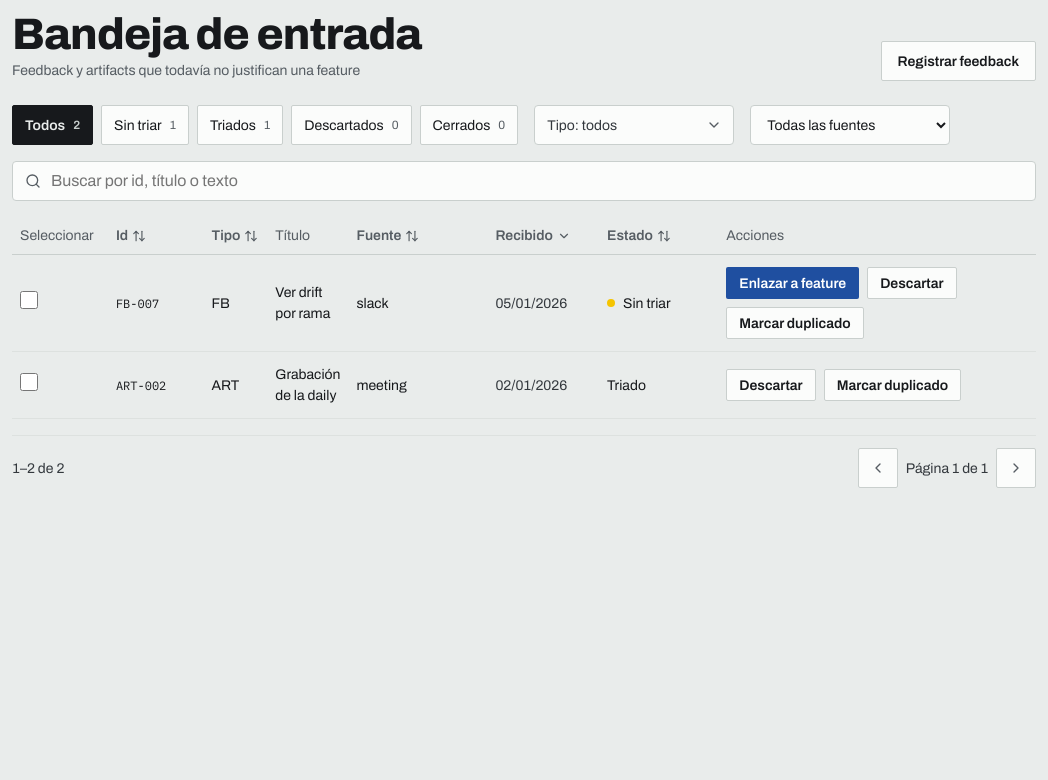
Test case: Entrada › triage › shows the batch bar with the selection count
Expected: the text "FB-007" is shown, [116,296,159,310]
Click the checkbox named "Seleccionar FB-007" at (29, 300), box [20,291,38,309]
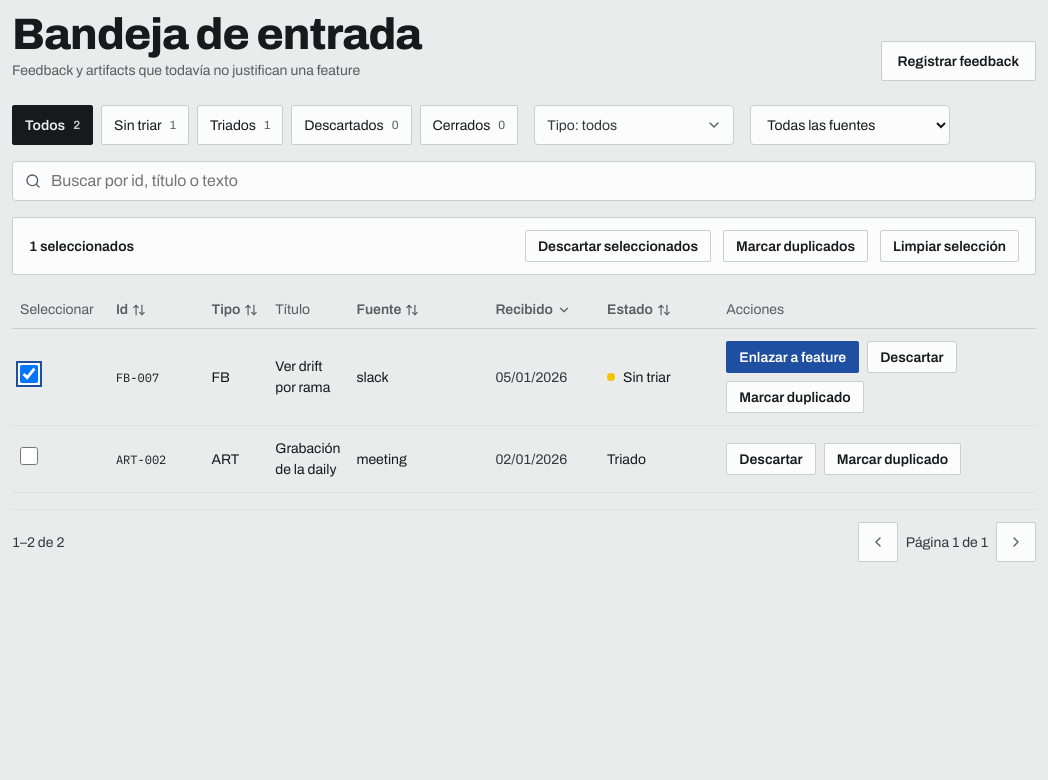
Click the checkbox named "Seleccionar ART-002" at (29, 456), box [20,447,38,465]
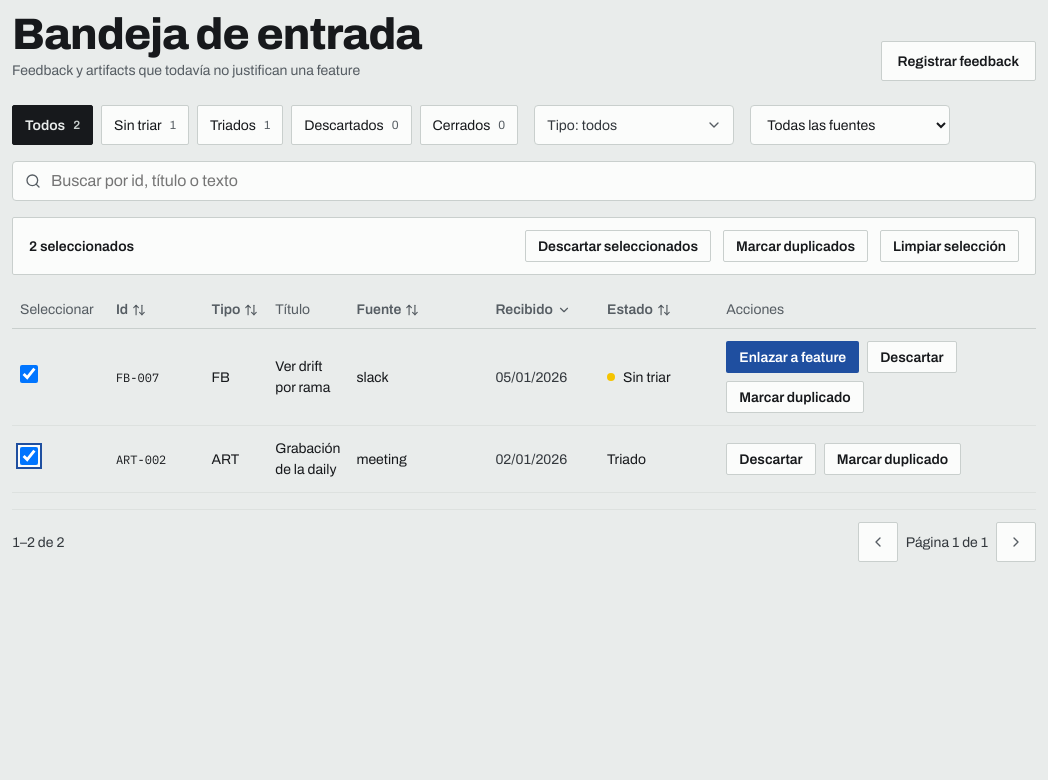
Expected: the text "2 seleccionados" is shown, [29,236,134,256]
Click the button "Limpiar selección" at (950, 246), box [880,230,1019,262]
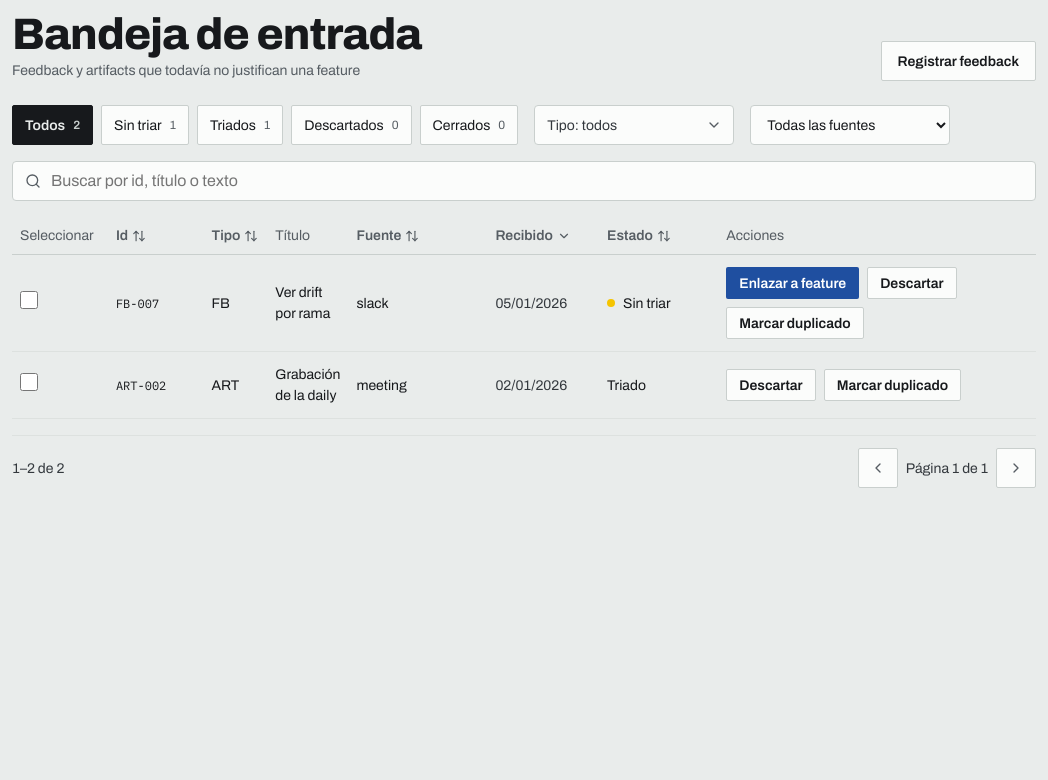
Expected: the text "2 seleccionados" is gone
